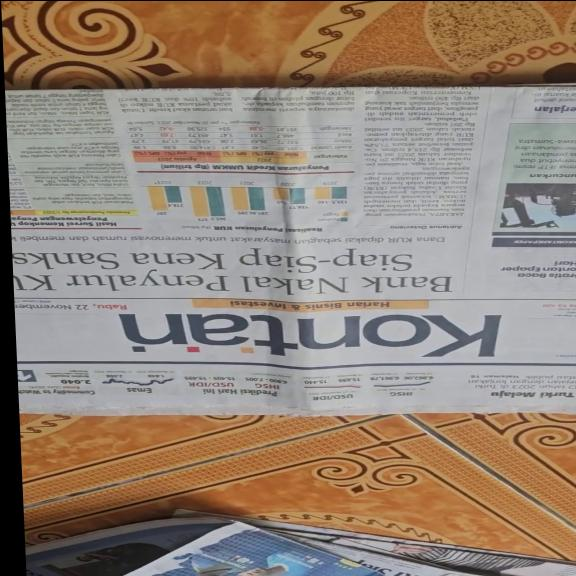Kertas: (11, 96, 576, 412)
